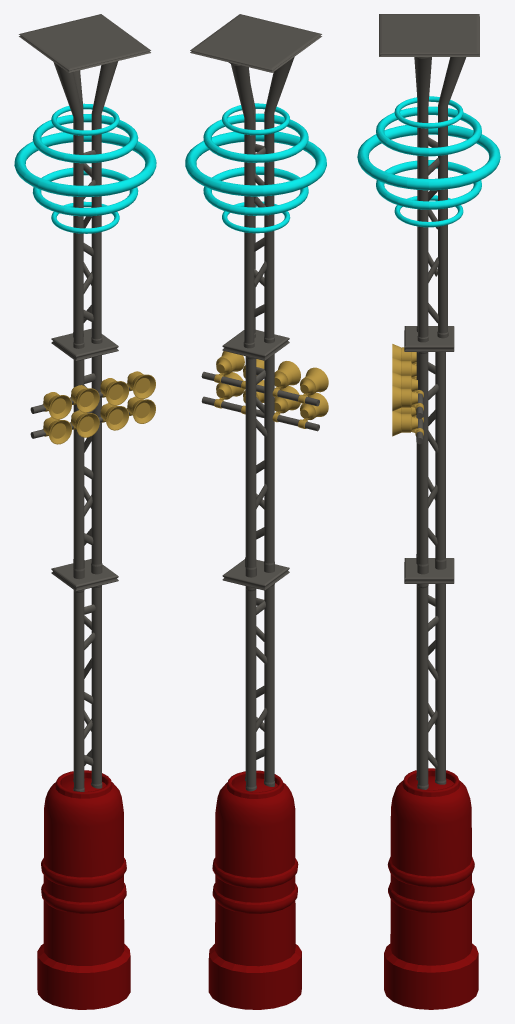
The model's file is LightPoll_Color.fbx.
3 renders of one model, left to right at view 1: azimuth 30°, elevation 25°; view 2: azimuth 150°, elevation 25°; view 3: azimuth 270°, elevation 25°, orthographic.
Parts seen in each view (by area): view 1: pSphere1, pCylinder16 (×2), pCube3, pTorus1, pCylinder15, pCylinder17, Polls:pCylinder17, Polls:pCylinder16, pTorus4, pTorus2, Light2 (×2), pCube1 (+10 smaller); view 2: pSphere1, pCylinder15 (×2), pCube3, pTorus1, pCylinder4, Polls:pCylinder15, Polls:pCylinder16, pCylinder16, pTorus4, pTorus2, pCube1, pCube2 (+10 smaller); view 3: pSphere1, pCube3, pCylinder16 (×2), pTorus1, pCylinder4, Polls:pCylinder15, pCylinder17, Polls:pCylinder17, pCylinder15, pTorus4, pTorus2, pCube1 (+6 smaller).
Part boxes in pixels (x1,y1,x2,y2): pSphere1: (37,770,130,1009); pCylinder16 (×2): (73,61,118,791); pCube3: (19,14,150,72); pTorus1: (14,132,156,196); pCylinder15: (53,62,84,348); pCylinder17: (91,585,102,788); Polls:pCylinder17: (91,355,102,574); Polls:pCylinder16: (73,359,84,579); pTorus4: (32,114,138,163); pTorus2: (32,167,138,216); Light2 (×2): (100,396,155,430); pCube1: (51,328,118,361); pSphere1: (208,770,301,1009); pCylinder15 (×2): (245,57,294,791); pCube3: (190,14,321,72); pTorus1: (185,131,326,196); pCylinder4: (229,62,254,348); Polls:pCylinder15: (245,356,256,577); Polls:pCylinder16: (264,354,274,572); pCylinder16: (264,583,274,786); pTorus4: (203,113,308,162); pTorus2: (203,166,308,215); pCube1: (222,330,289,360); pCube2: (222,559,289,590); pSphere1: (384,768,478,1009); pCube3: (379,14,479,56); pCylinder16 (×2): (414,57,431,780); pTorus1: (357,125,500,190); pCylinder4: (437,57,466,338); Polls:pCylinder15: (435,352,446,569); pCylinder17: (417,584,428,789); Polls:pCylinder17: (417,352,428,574); pCylinder15: (435,584,446,784); pTorus4: (376,106,481,156); pTorus2: (376,160,481,209); pCube1: (404,326,454,351).
Size of the model in its own units: 2.94 by 21.65 by 2.94.
